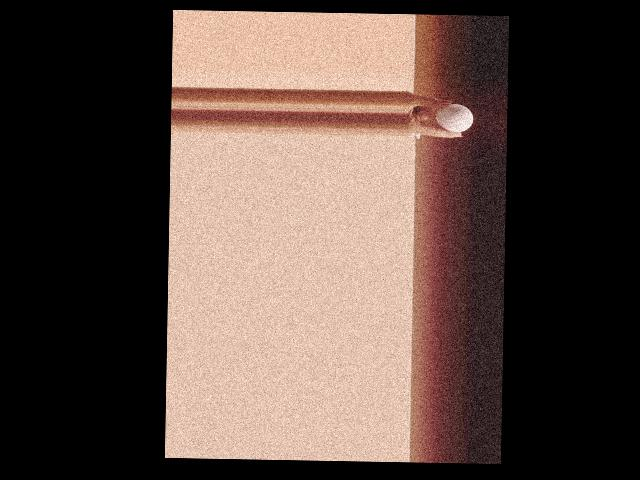egg: (434, 103, 473, 132)
